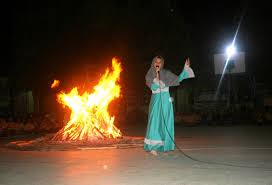fire: (47, 55, 126, 140)
